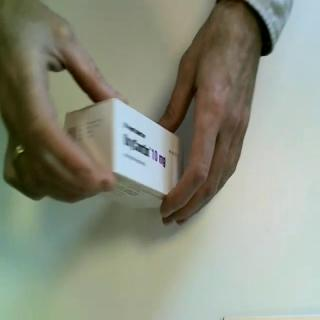oxycontin10mg: (63, 96, 186, 212)
